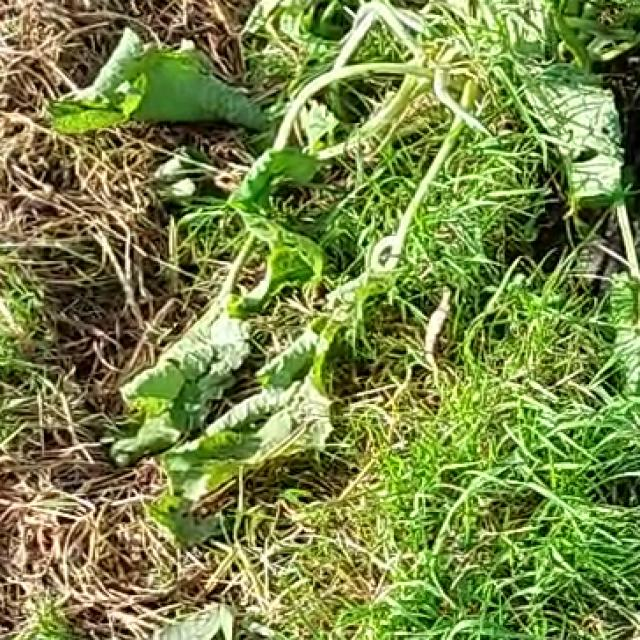organic waste: (67, 0, 517, 564)
